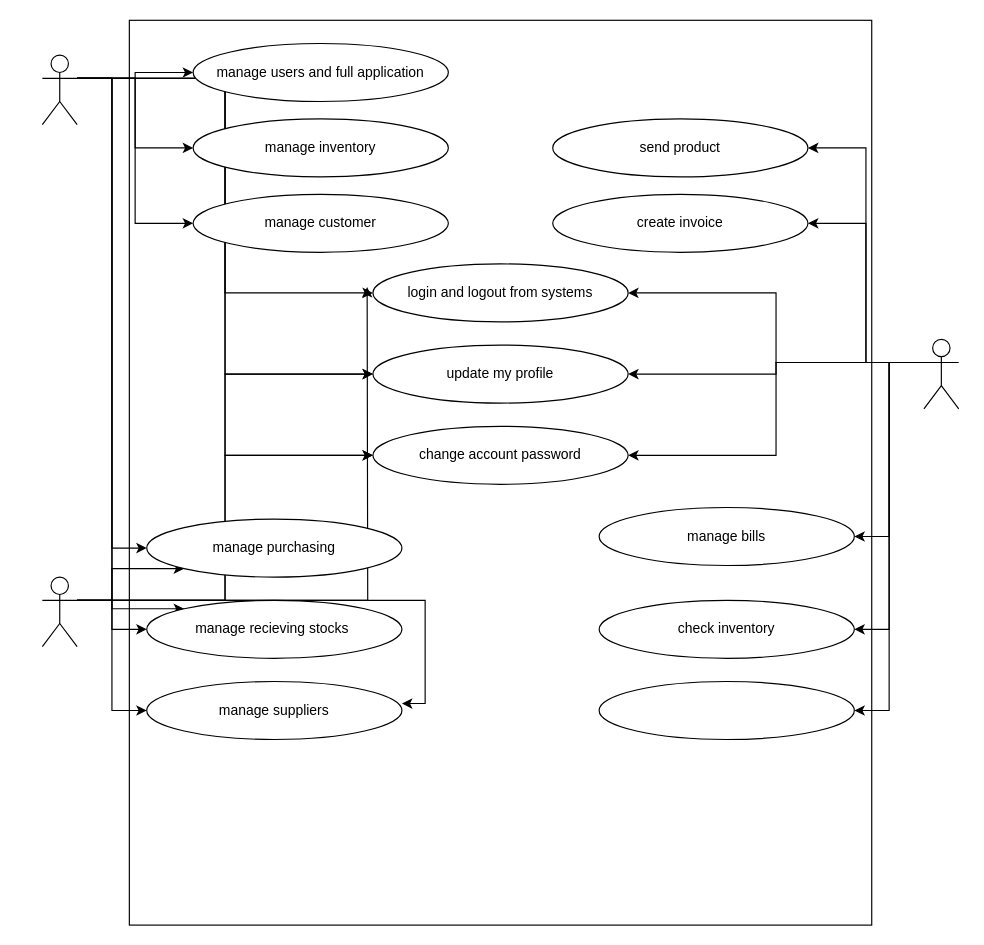
The diagram is 984 pixels wide and 945 high, and some of its shapes have lost their labels. Each missing label, with the centre of its shape:
super adimin: (x=59, y=89)
supllier: (x=941, y=373)
system user: (x=59, y=611)
